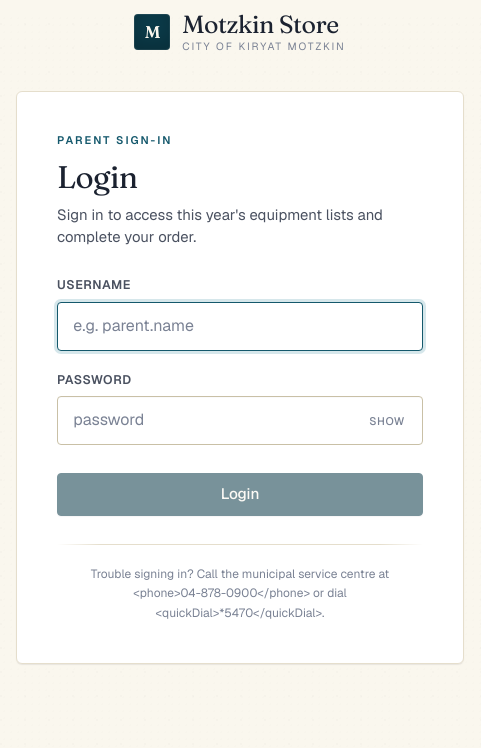
Test: LoginForm › Error Handling › should display generic error message when no error message provided
Type "testuser" into the field labelled "Username" at (240, 326), box [57,302,423,351]
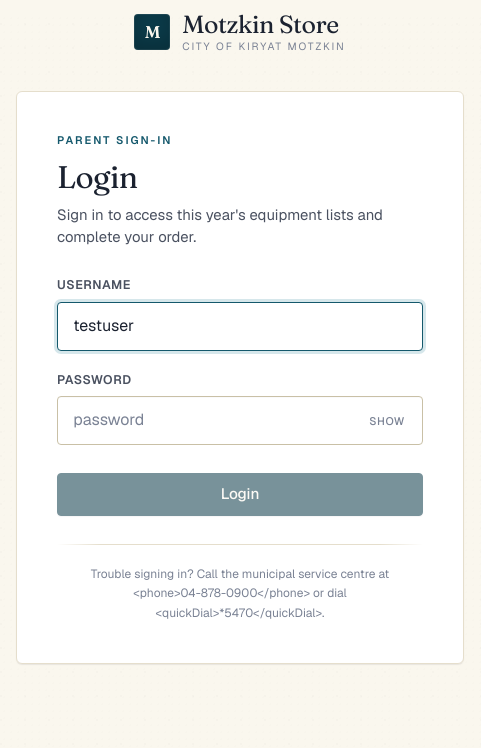
Type "password123" into the password field labelled "Password" at (240, 421), box [57,396,423,445]
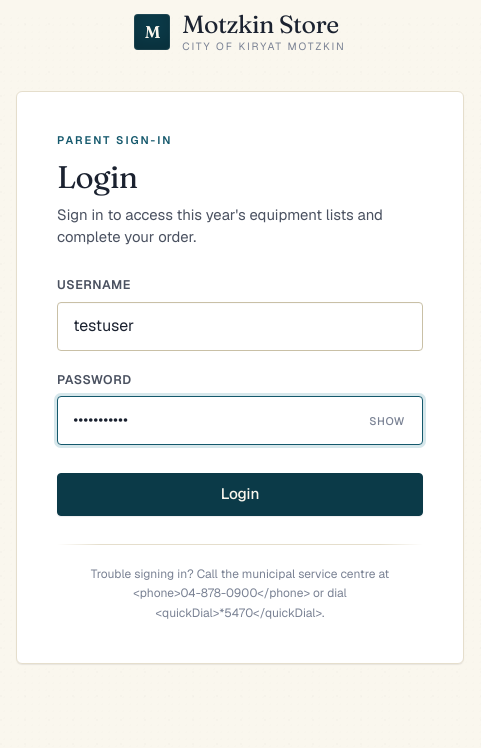
Click the button "Login" at (240, 495), box [57,473,423,516]
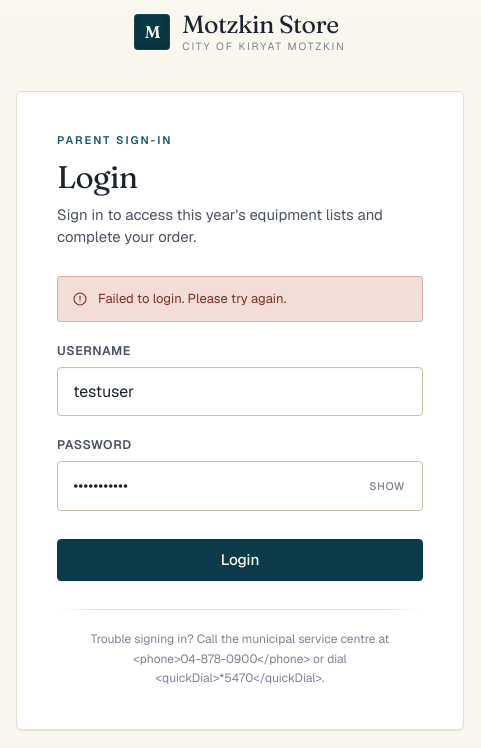
Expected: the text "Failed to login. Please try again." is shown, [98,289,286,309]
